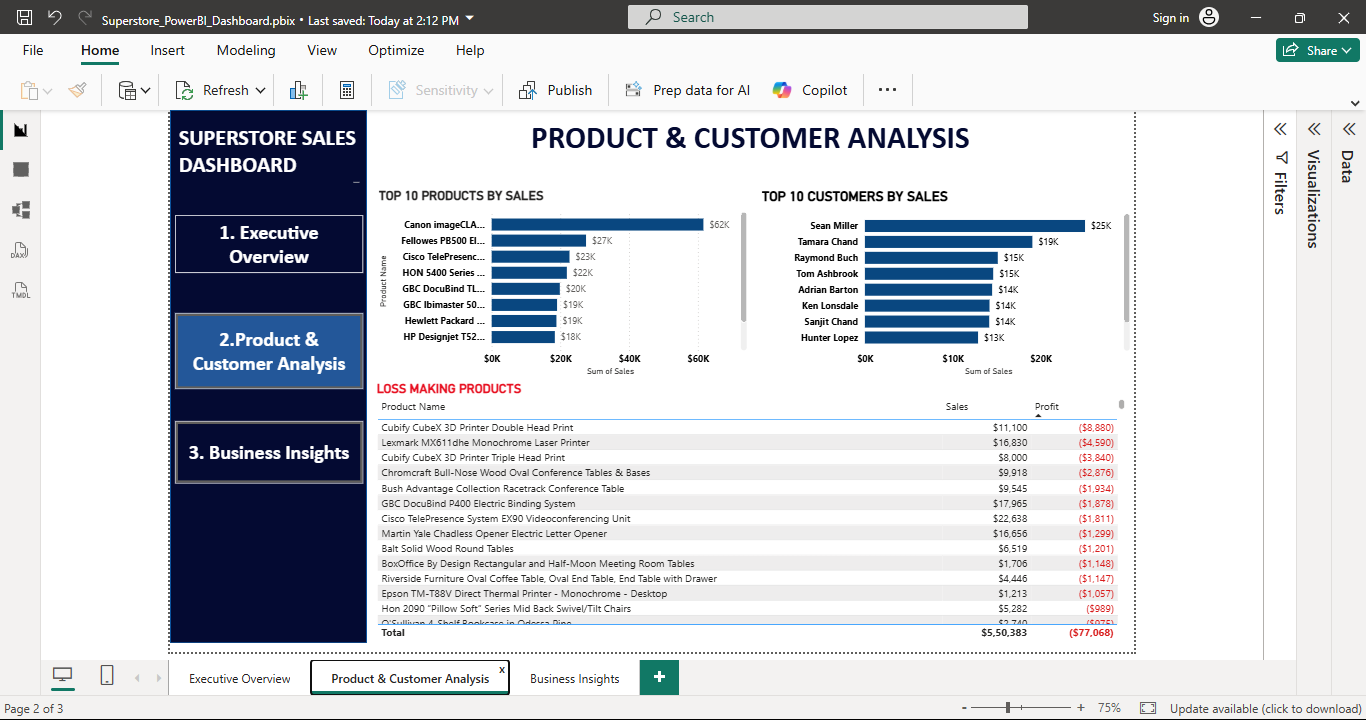

The page's visual inventory and layout, read from the dashboard file:
{"tool":"powerbi","page":{"name":"Product & Customer Analysis","canvas":[1280,720],"ordinal":1},"visuals":[{"type":"shape","box":[0,0,261.7,708.3],"z":0},{"type":"textbox","title":"SUPERSTORE SALES DASHBOARD","box":[6.7,18.3,250,83.3],"z":1000},{"type":"actionButton","title":"1. Executive Overview","box":[7.1,140,250,77.1],"z":2000},{"type":"actionButton","box":[7.1,270,250,101.4],"z":3000},{"type":"actionButton","box":[7.1,412.9,250,82.9],"z":4000},{"type":"shape","box":[262,0,1018.5,74.6],"z":5000},{"type":"clusteredBarChart","title":"TOP 10 CUSTOMERS BY SALES","fields":{"Category":["Superstore.Customer Name"],"Y":["Sum(Superstore.Sales)"]},"box":[781.5,103.9,499,254],"z":6000},{"type":"clusteredBarChart","title":"TOP 10 PRODUCTS BY SALES","fields":{"Category":["Superstore.Product Name"],"Y":["Sum(Superstore.Sales)"]},"box":[272.1,104.1,499,253.6],"z":7000},{"type":"tableEx","title":"LOSS MAKING PRODUCTS","fields":{"Values":["Superstore.Product Name","Sum(Superstore.Sales)","Sum(Superstore.Profit)"]},"box":[269.3,360,1003.9,348.3],"z":7001}]}

Visuals, with their boxes on the page's 1280x720 design canvas (x1, y1, x2, y2). These are canvas units, not pixel positions in the 1366x720 screenshot, which may show the page scaled, cropped or inside an application window:
shape: <box>0,0,262,708</box>
"SUPERSTORE SALES DASHBOARD" textbox: <box>7,18,257,102</box>
"1. Executive Overview" actionButton: <box>7,140,257,217</box>
actionButton: <box>7,270,257,371</box>
actionButton: <box>7,413,257,496</box>
shape: <box>262,0,1280,75</box>
"TOP 10 CUSTOMERS BY SALES" clusteredBarChart: <box>782,104,1280,358</box>
"TOP 10 PRODUCTS BY SALES" clusteredBarChart: <box>272,104,771,358</box>
"LOSS MAKING PRODUCTS" tableEx: <box>269,360,1273,708</box>
